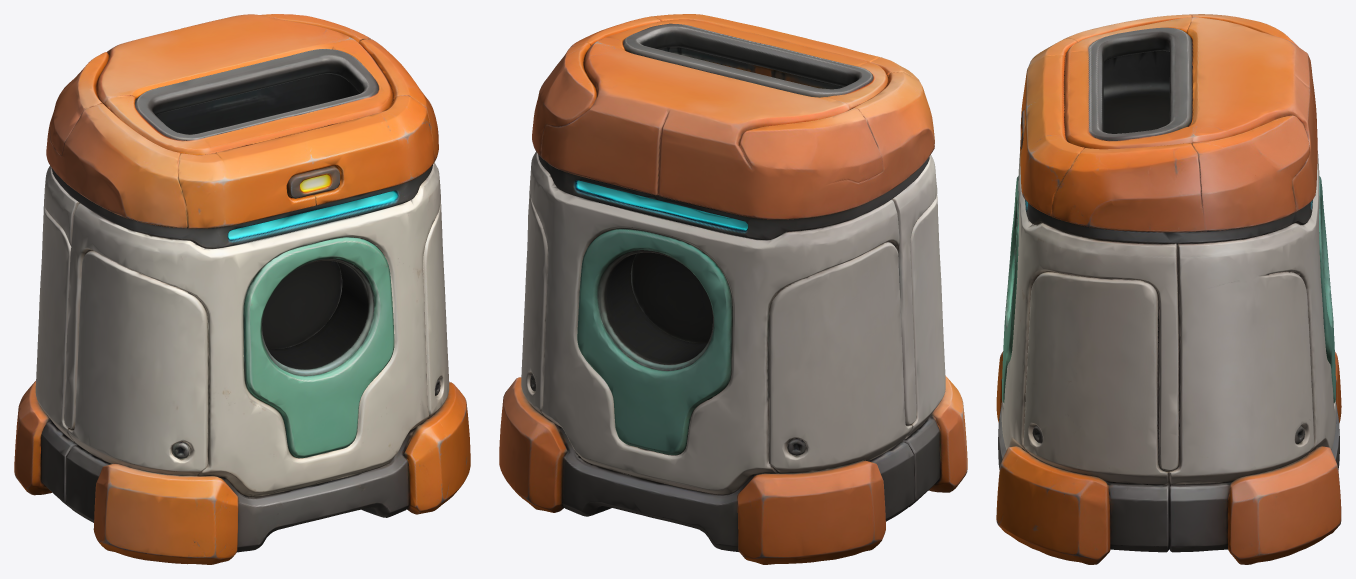
The model's file is stylized+sci-fi+prop+3d+model.glb.
3 renders of one model, left to right at view 1: azimuth 30°, elevation 25°; view 2: azimuth 150°, elevation 25°; view 3: azimuth 270°, elevation 25°, orthographic. The views are drawn at different scales.
Parts seen in each view (by area): view 1: tripo_node_0e2c9bf5-f7ab-4c9a-8526-3a0f5d8ad017; view 2: tripo_node_0e2c9bf5-f7ab-4c9a-8526-3a0f5d8ad017; view 3: tripo_node_0e2c9bf5-f7ab-4c9a-8526-3a0f5d8ad017.
Part boxes in pixels (x1,y1,x2,y2): tripo_node_0e2c9bf5-f7ab-4c9a-8526-3a0f5d8ad017: (14, 14, 470, 564); tripo_node_0e2c9bf5-f7ab-4c9a-8526-3a0f5d8ad017: (499, 14, 967, 564); tripo_node_0e2c9bf5-f7ab-4c9a-8526-3a0f5d8ad017: (996, 14, 1341, 564).
Size of the model in its own units: 0.939 by 1 by 0.7678.
1 material, 1 textured.
